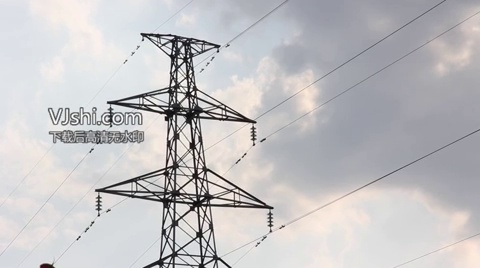tower_body: (94, 26, 278, 268)
tower_head: (140, 29, 223, 62)
